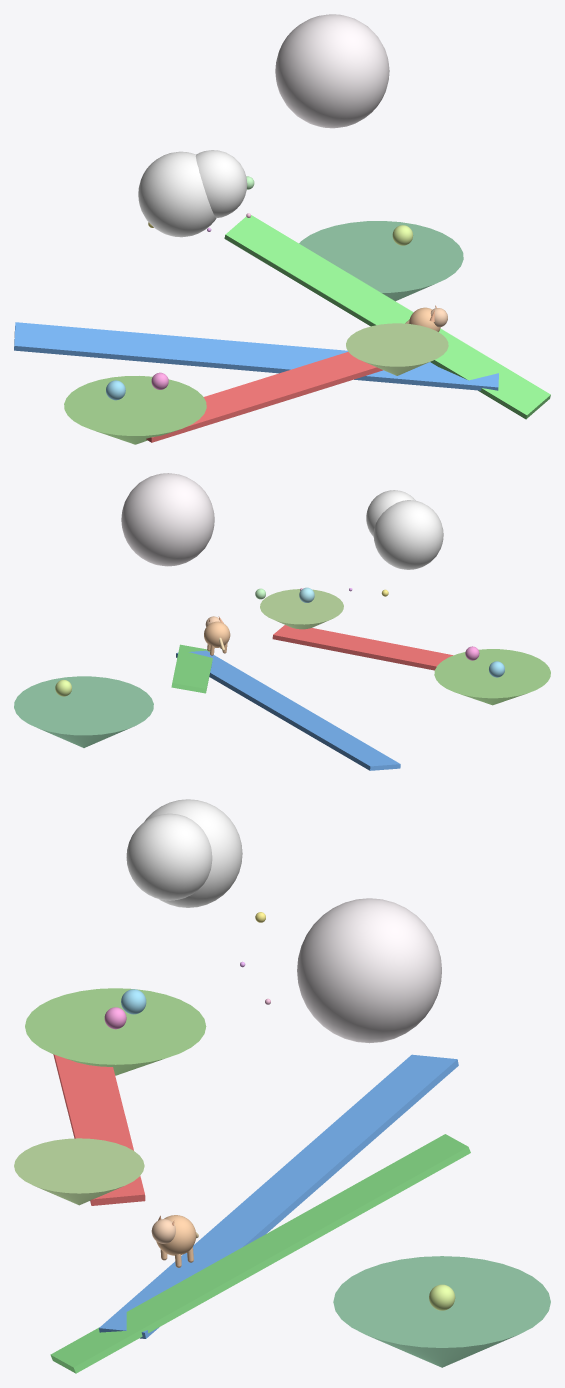
The picture shows the model from 3 angles, top to bottom: view 1: azimuth 30°, elevation 25°; view 2: azimuth 150°, elevation 25°; view 3: azimuth 270°, elevation 25°; orthographic projection. The views are drawn at different scales.
Parts seen in each view (by area): view 1: bridge_2_to_1, cloud_3, bridge_3_to_2, island_2, island_1, bridge_1_to_3, cloud_1, island_3, cloud_2; view 2: cloud_3, island_2, bridge_2_to_1, island_1, cloud_1, bridge_1_to_3, island_3, bridge_3_to_2, cloud_2, creature_body; view 3: cloud_3, island_2, bridge_2_to_1, bridge_3_to_2, island_1, island_3, cloud_2, bridge_1_to_3, cloud_1, creature_body.
Part boxes in pixels (x1,y1,x2,y2): bridge_2_to_1: (14, 322, 498, 390); cloud_3: (275, 14, 389, 128); bridge_3_to_2: (224, 215, 550, 419); island_2: (299, 221, 463, 301); island_1: (64, 376, 206, 444); bridge_1_to_3: (146, 352, 382, 442); cloud_1: (138, 151, 216, 237); island_3: (346, 323, 448, 375); cloud_2: (195, 150, 247, 218); cloud_3: (121, 473, 214, 566); island_2: (14, 676, 153, 747); bridge_2_to_1: (176, 650, 400, 770); island_1: (434, 649, 550, 705); cloud_1: (373, 500, 443, 569); bridge_1_to_3: (272, 625, 453, 670); island_3: (260, 589, 343, 629); bridge_3_to_2: (171, 644, 212, 693); cloud_2: (366, 490, 415, 536); creature_body: (204, 621, 230, 647); cloud_3: (297, 898, 441, 1043); island_2: (333, 1256, 550, 1367); bridge_2_to_1: (99, 1054, 458, 1338); bridge_3_to_2: (50, 1134, 470, 1373); island_1: (25, 988, 206, 1075); island_3: (14, 1138, 144, 1205); cloud_2: (126, 813, 212, 900); bridge_1_to_3: (53, 1054, 145, 1205); cloud_1: (144, 799, 242, 907); creature_body: (156, 1215, 196, 1255).
Bounding box in the file's own units: 20.5 × 12.68 × 14.8.
